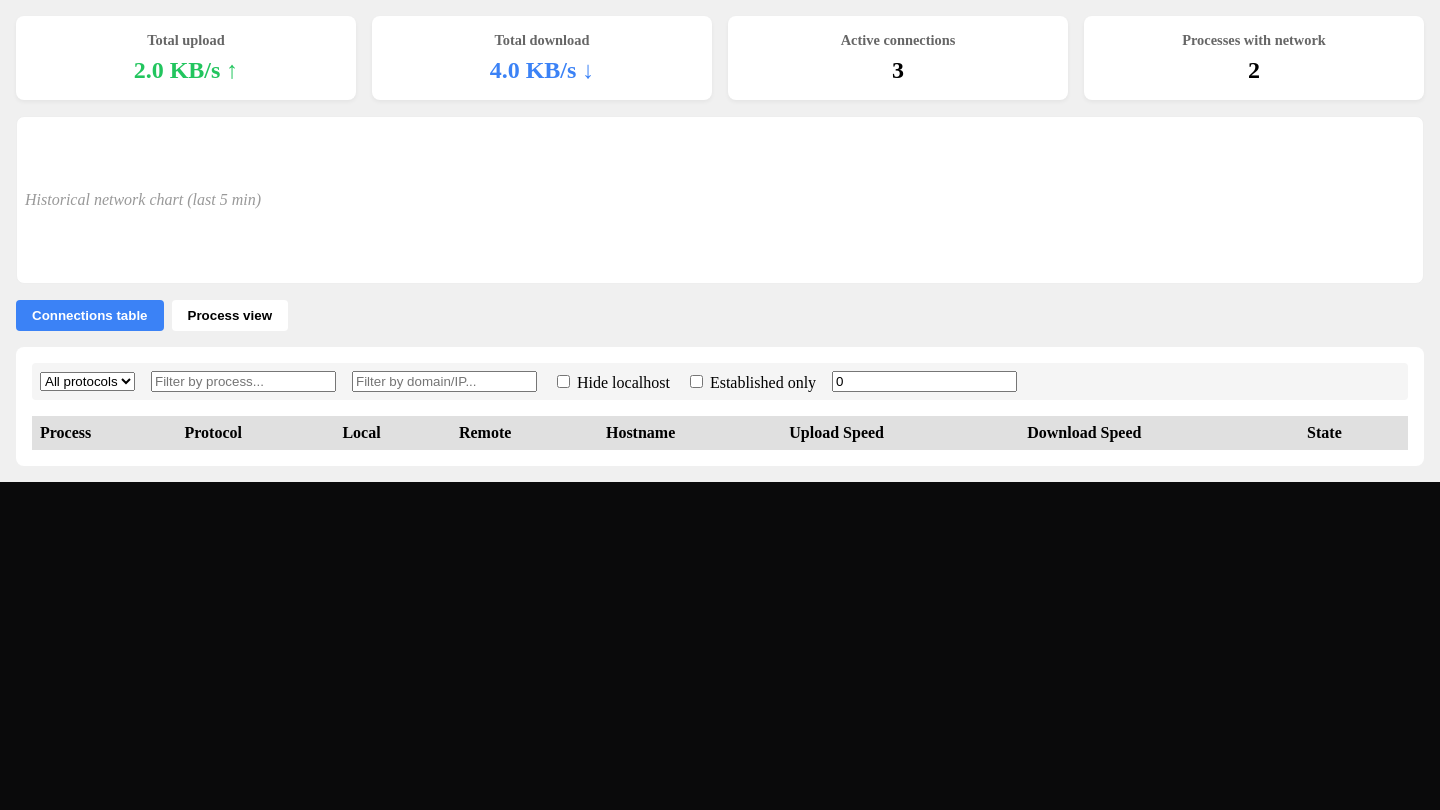
Test: NetworkDashboard › switches to process tab
Click the button "Process view".
click(230, 316)  # box [172, 300, 288, 331]
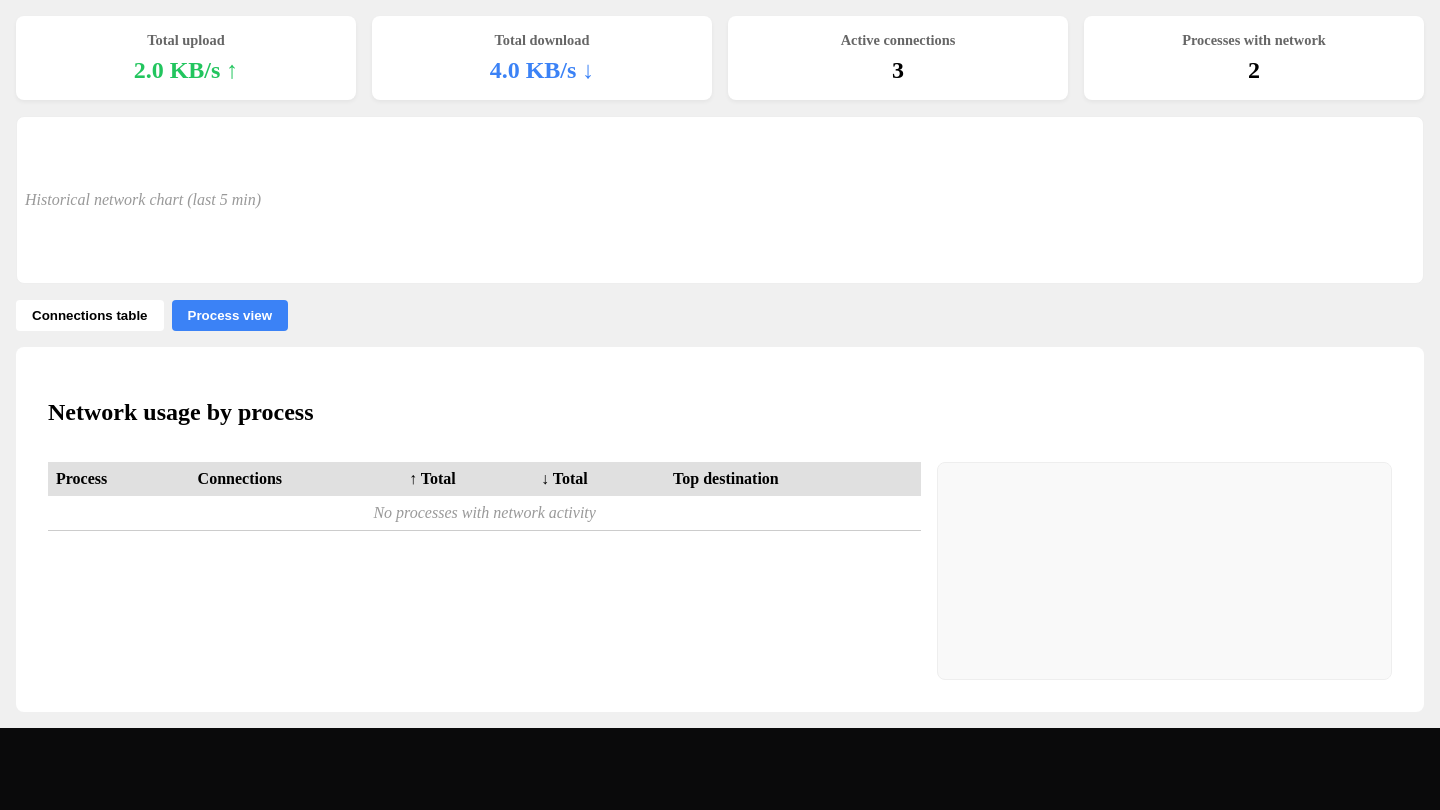
Check: the field with placeholder "Filter by process..." is not shown
Check: the heading "Network usage by process" is shown, box [48, 399, 314, 425]
